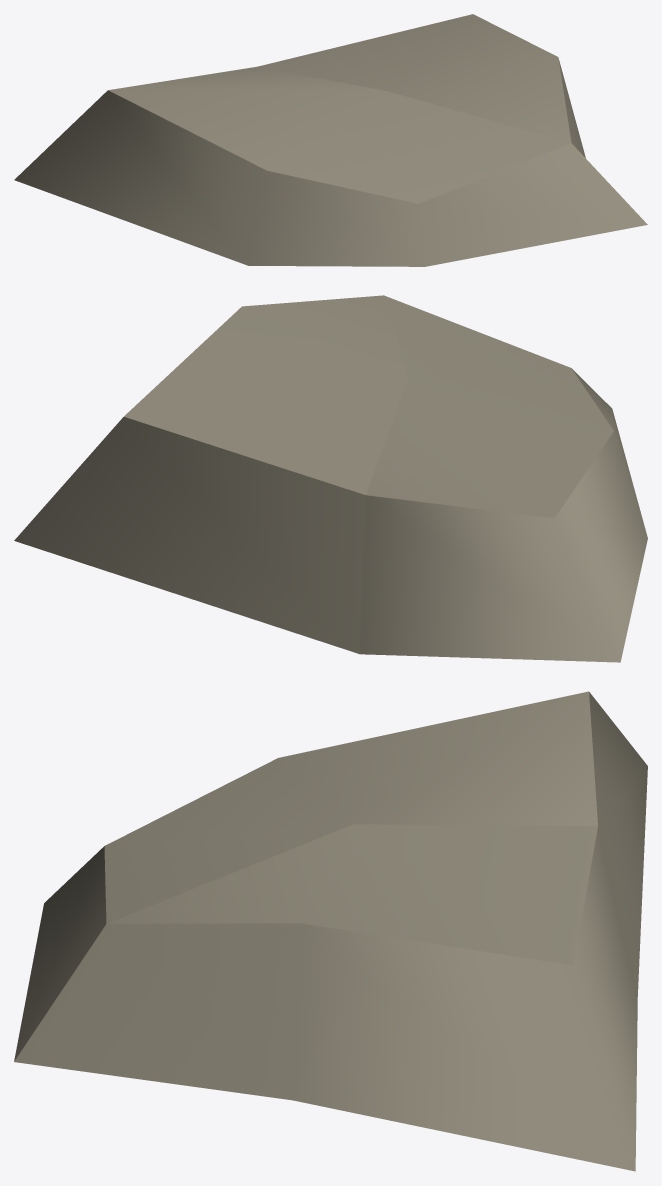
File: Stones_1l.fbx
3 renders of one model, top to bottom at view 1: azimuth 30°, elevation 25°; view 2: azimuth 150°, elevation 25°; view 3: azimuth 270°, elevation 25°, orthographic. The views are drawn at different scales.
Visible parts, largest first — view 1: Stones_1l; view 2: Stones_1l; view 3: Stones_1l.
Part boxes in pixels (x1,y1,x2,y2): Stones_1l: (14,14,647,266); Stones_1l: (14,295,647,662); Stones_1l: (14,691,647,1171).
Bounding box in the file's own units: 46.49 × 13.46 × 33.93.
